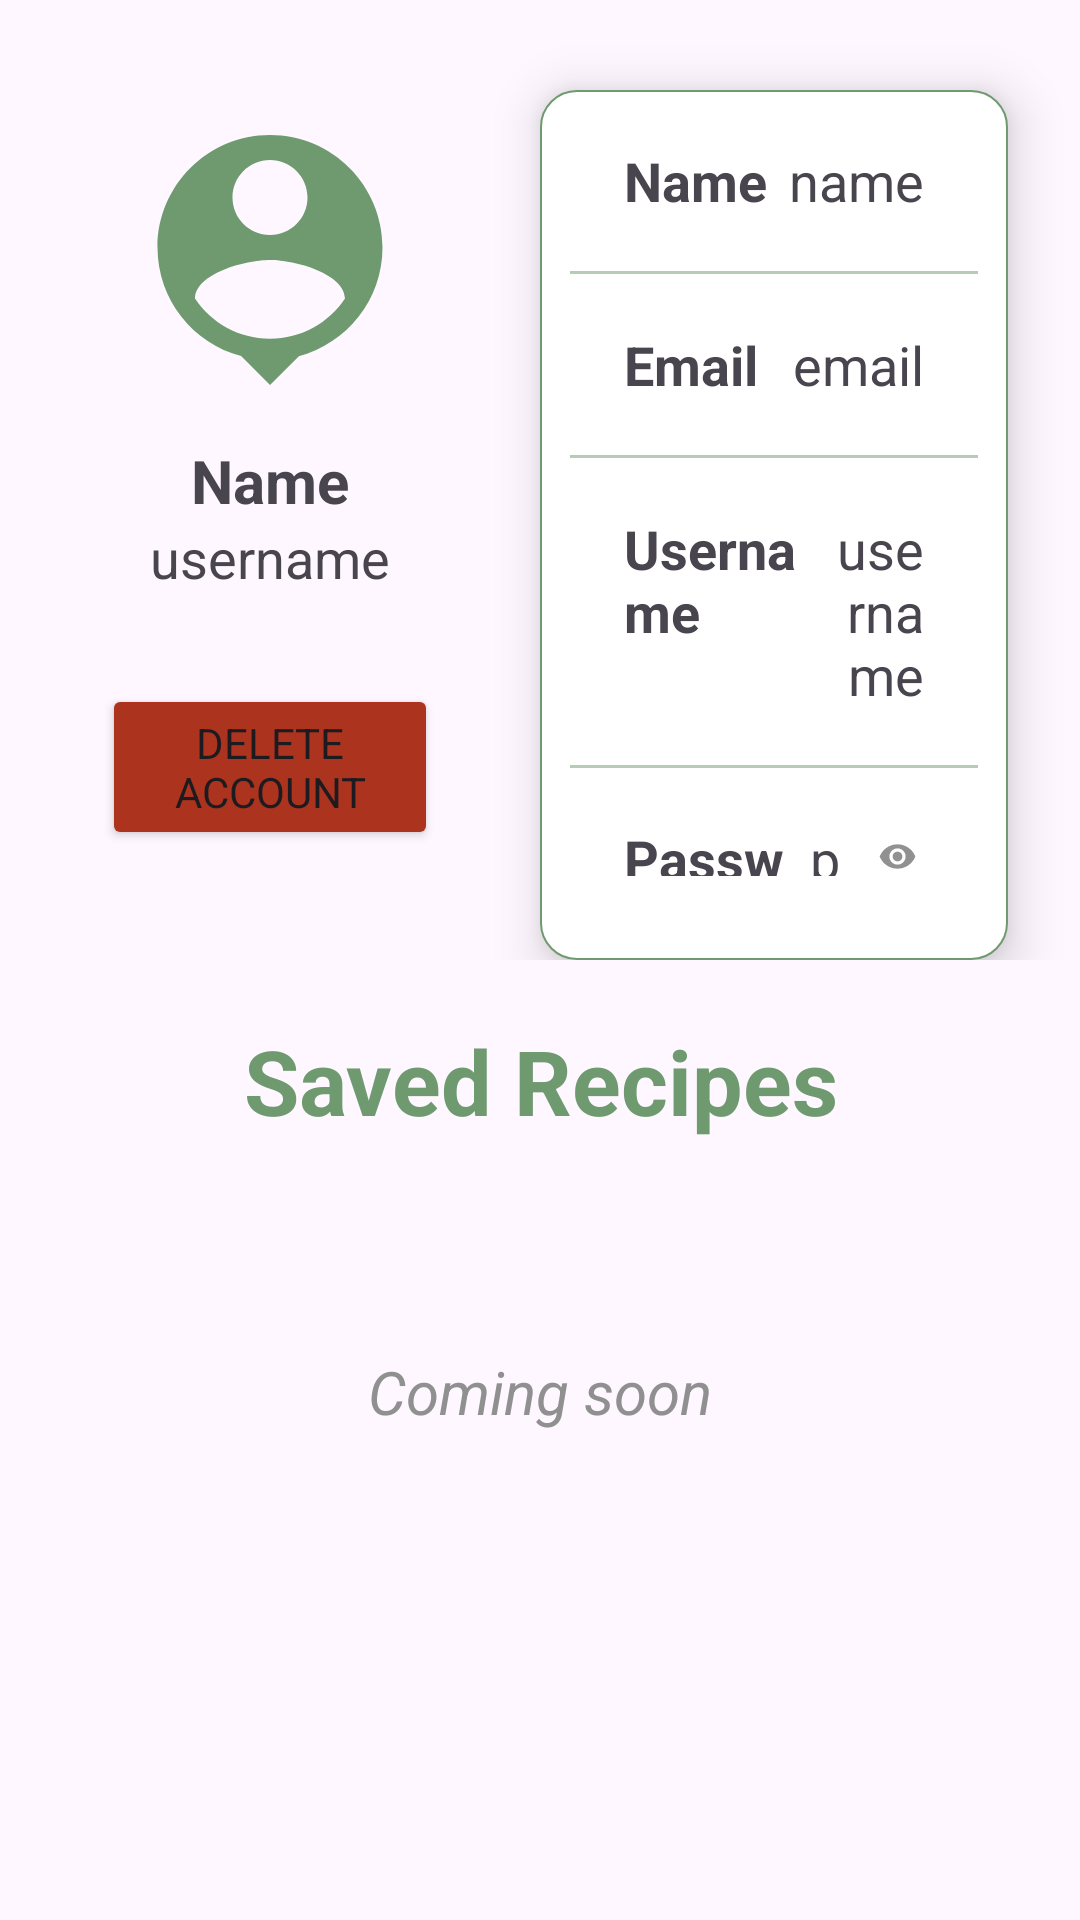

Icon bounding boxes for this 1080w x 1920h phone screenshot, format {"x1": x1, "y1": y1, "x2": x2, "y2": y2}:
add profile pic: {"x1": 157, "y1": 135, "x2": 383, "y2": 385}
